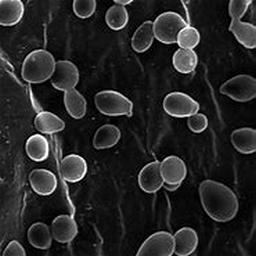Yeast: (49, 59, 87, 119), (199, 180, 239, 223), (228, 1, 256, 49), (21, 48, 57, 83), (153, 11, 189, 45), (94, 90, 133, 118), (164, 91, 201, 118), (136, 231, 175, 256), (220, 75, 256, 102), (28, 168, 58, 196), (60, 153, 88, 183), (138, 161, 164, 193), (171, 227, 199, 256), (51, 214, 78, 243), (131, 21, 155, 53), (33, 111, 66, 134), (172, 47, 199, 74), (26, 222, 52, 250), (93, 124, 121, 150), (161, 155, 186, 184), (25, 133, 49, 162), (231, 127, 256, 154), (0, 0, 25, 27), (105, 4, 130, 31), (176, 27, 202, 49), (73, 0, 96, 19), (187, 113, 209, 132), (1, 239, 27, 255)
